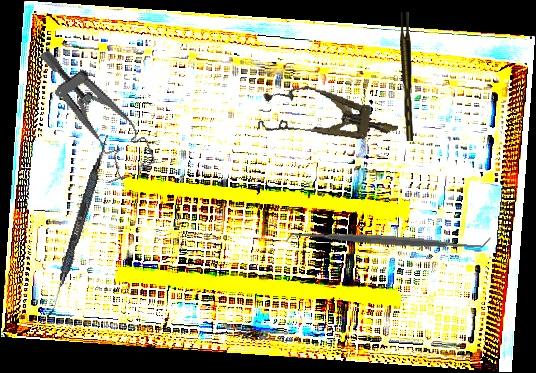Spatula Surgical: (46, 133, 111, 320), (284, 221, 493, 259)
Speculum: (38, 28, 158, 191), (256, 78, 403, 156)
Tissue Forceps: (400, 12, 413, 141)
